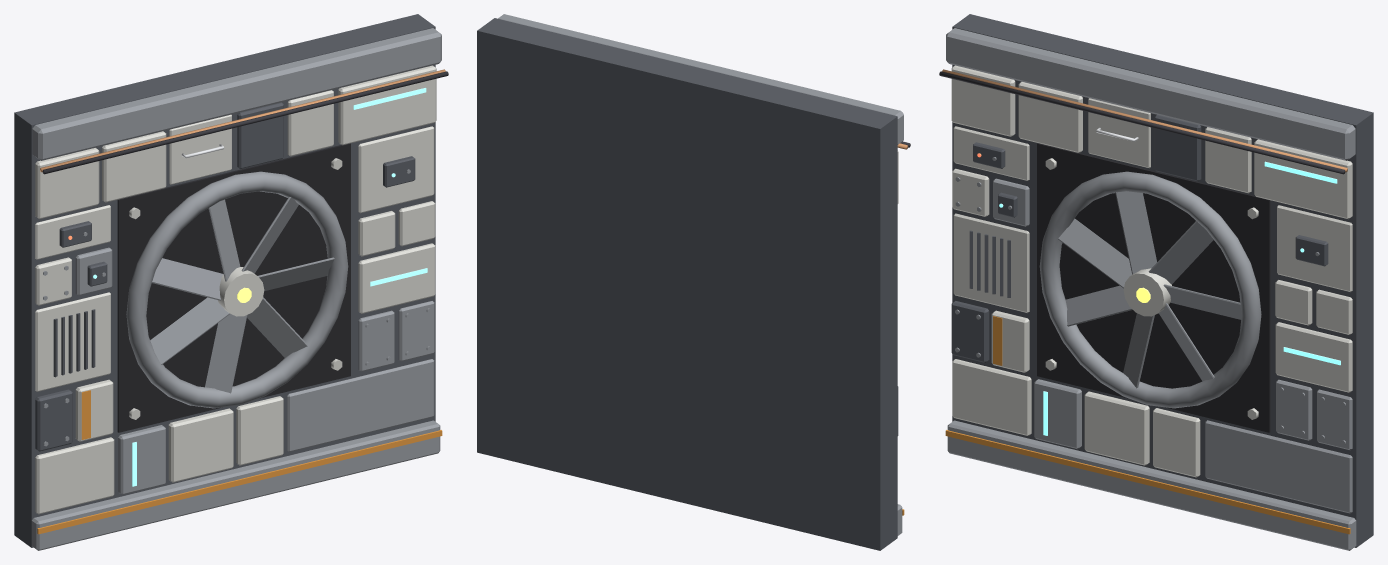
File: wall_vent.glb
The picture shows the model from 3 angles, left to right: view 1: azimuth 30°, elevation 25°; view 2: azimuth 150°, elevation 25°; view 3: azimuth 330°, elevation 25°; orthographic projection.
Visible parts, largest first — view 1: wall_vent; view 2: wall_vent; view 3: wall_vent.
Part boxes in pixels (box(x1,y1,x2,y2)): wall_vent: box(14, 14, 448, 550); wall_vent: box(477, 14, 910, 550); wall_vent: box(939, 14, 1373, 550).
Size of the model in its own units: 4 by 4 by 0.525.
